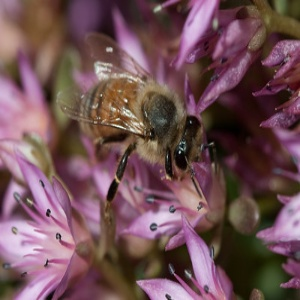bee: (56, 27, 220, 226)
